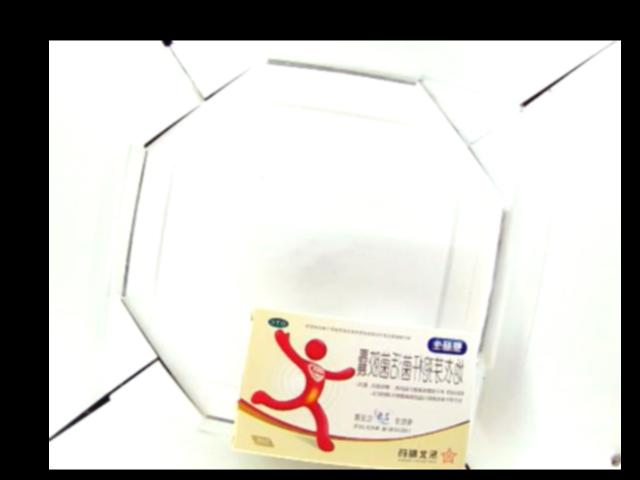Medicine: (230, 306, 474, 469)
